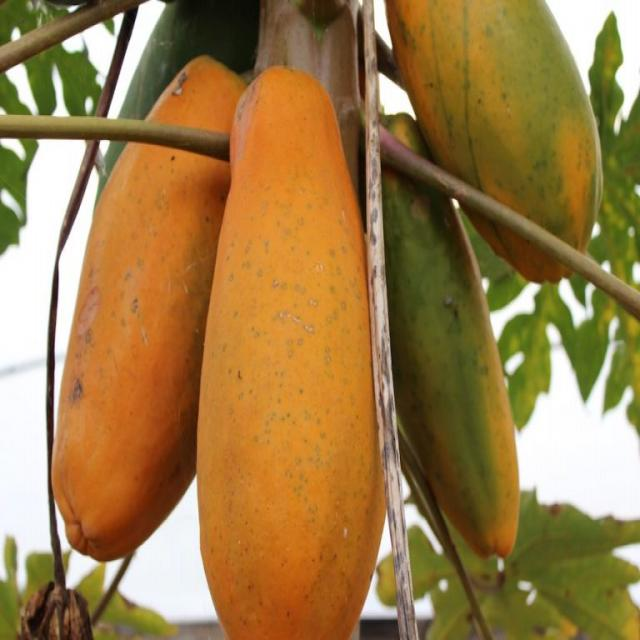Pepaya rippen: (200, 74, 382, 640), (46, 59, 245, 552), (364, 142, 528, 568), (394, 1, 614, 282)
